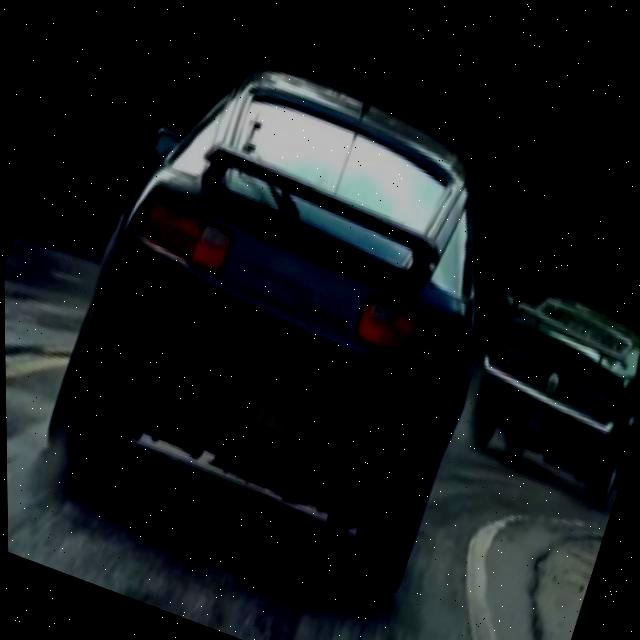license_plate: (190, 351, 320, 444)
